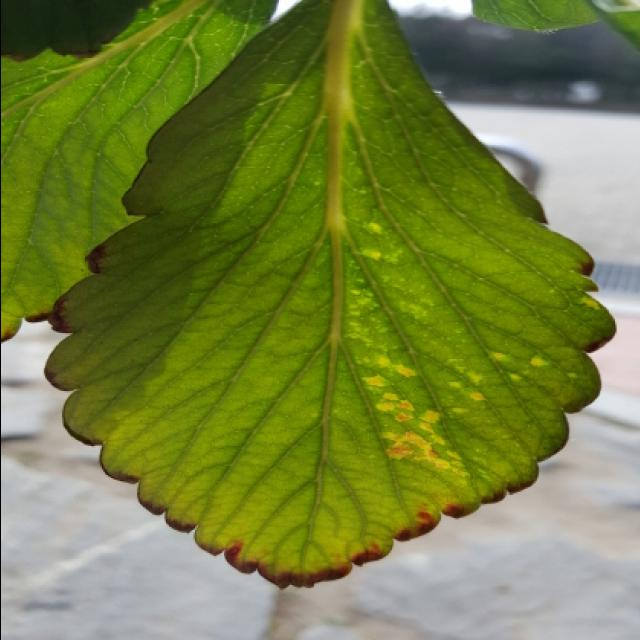Angular Leafspot: (336, 208, 600, 494)
